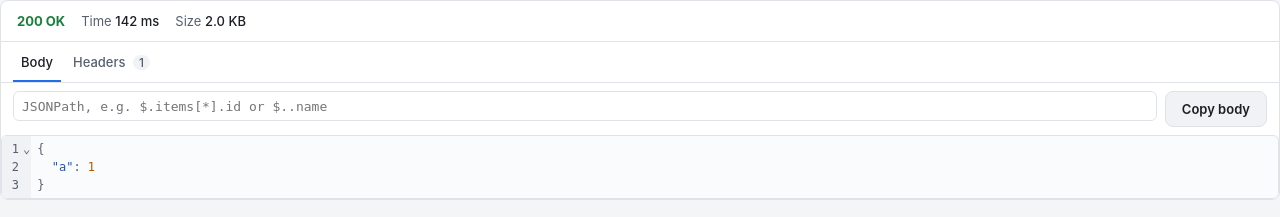
it: ResponseViewer › switches to the headers
Click the tab "Headers 1". click: (112, 62)
box: [65,42,158,82]
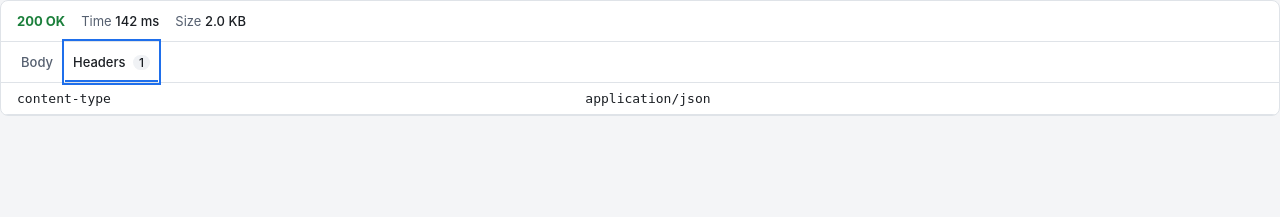
Now the text "application/json" is shown, box [569,83,1279,114]
